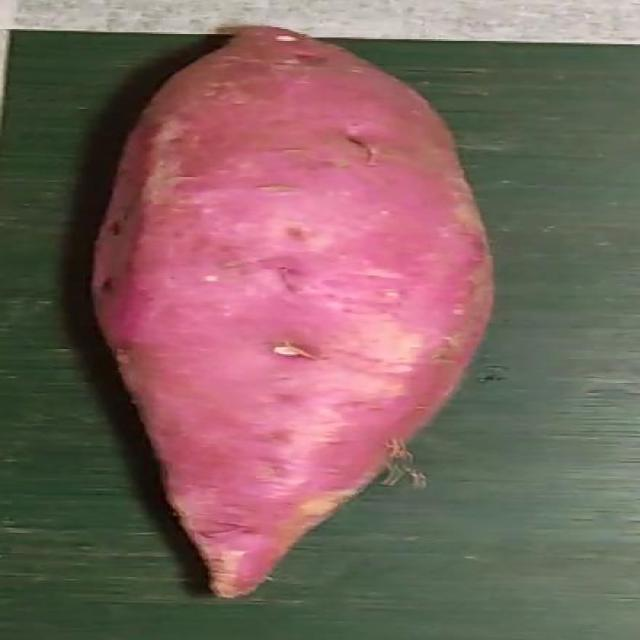Sweet Potato: (89, 26, 493, 601)
